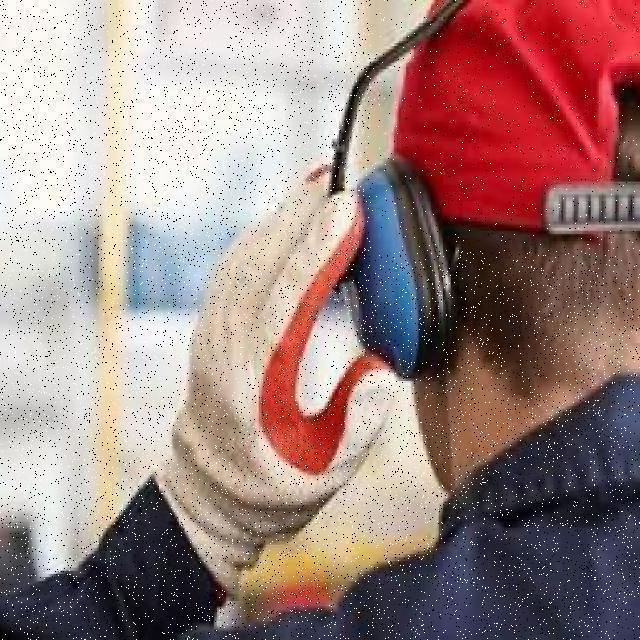helmet: (371, 0, 640, 250)
